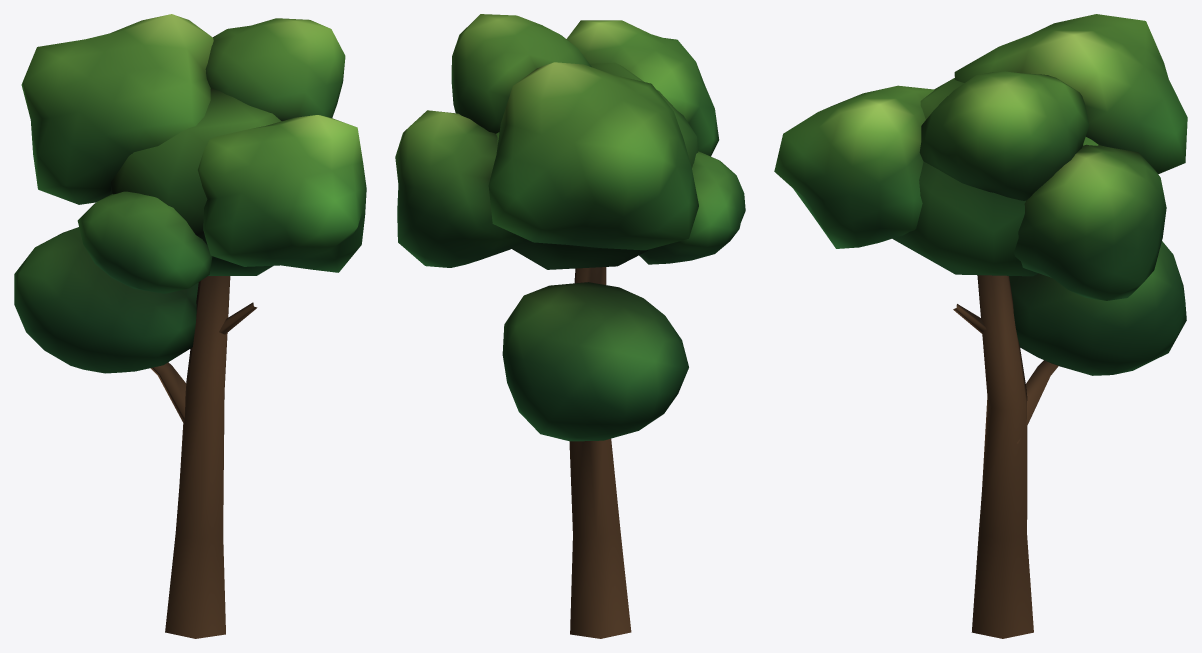
The model's file is tree-sapling-v2.glb.
3 views of the same model, side by side, from view 1: azimuth 30°, elevation 25°; view 2: azimuth 150°, elevation 25°; view 3: azimuth 270°, elevation 25° (orthographic).
Parts seen in each view (by area): view 1: 1_leaves, 0_trunk; view 2: 1_leaves, 0_trunk; view 3: 1_leaves, 0_trunk.
Part boxes in pixels (x1,y1,x2,y2): 1_leaves: (14,14,366,373); 0_trunk: (150,276,257,638); 1_leaves: (395,14,745,441); 0_trunk: (569,267,631,638); 1_leaves: (774,14,1187,375); 0_trunk: (953,275,1058,638).
Size of the model in its own units: 0.7247 by 1.46 by 0.9148.
